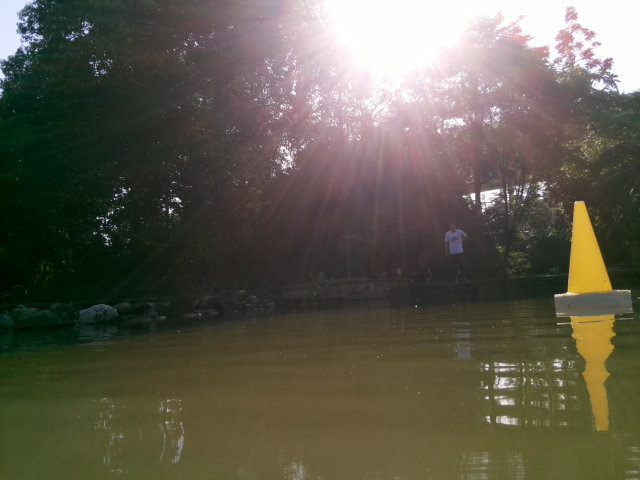checkpoint: (553, 200, 634, 316)
